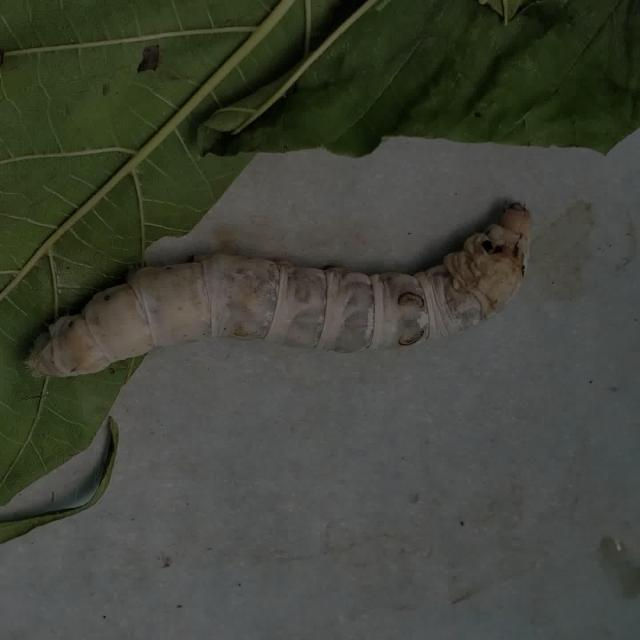Grasserie: (12, 169, 563, 406)
